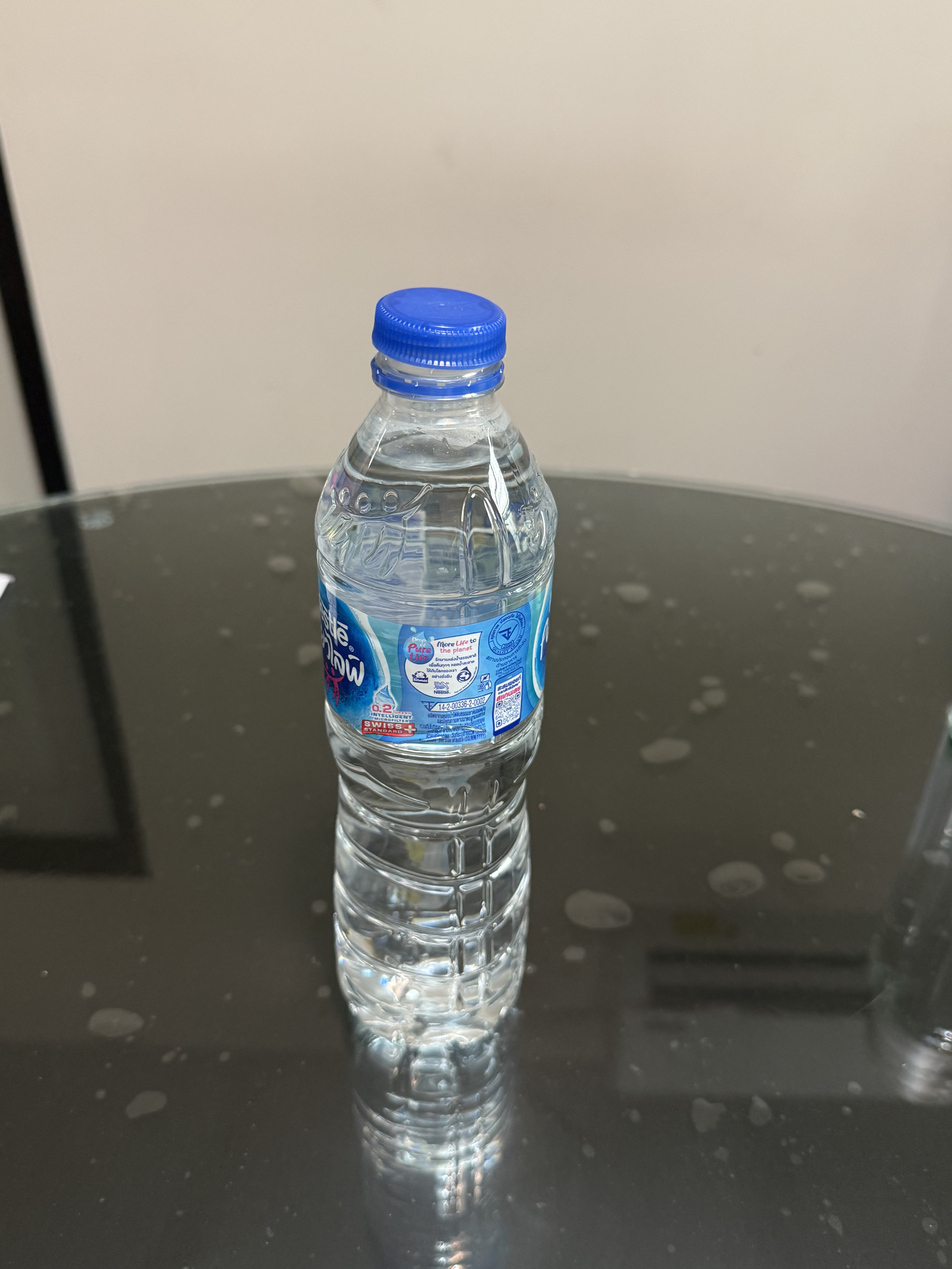half_cap: (367, 283, 508, 395)
